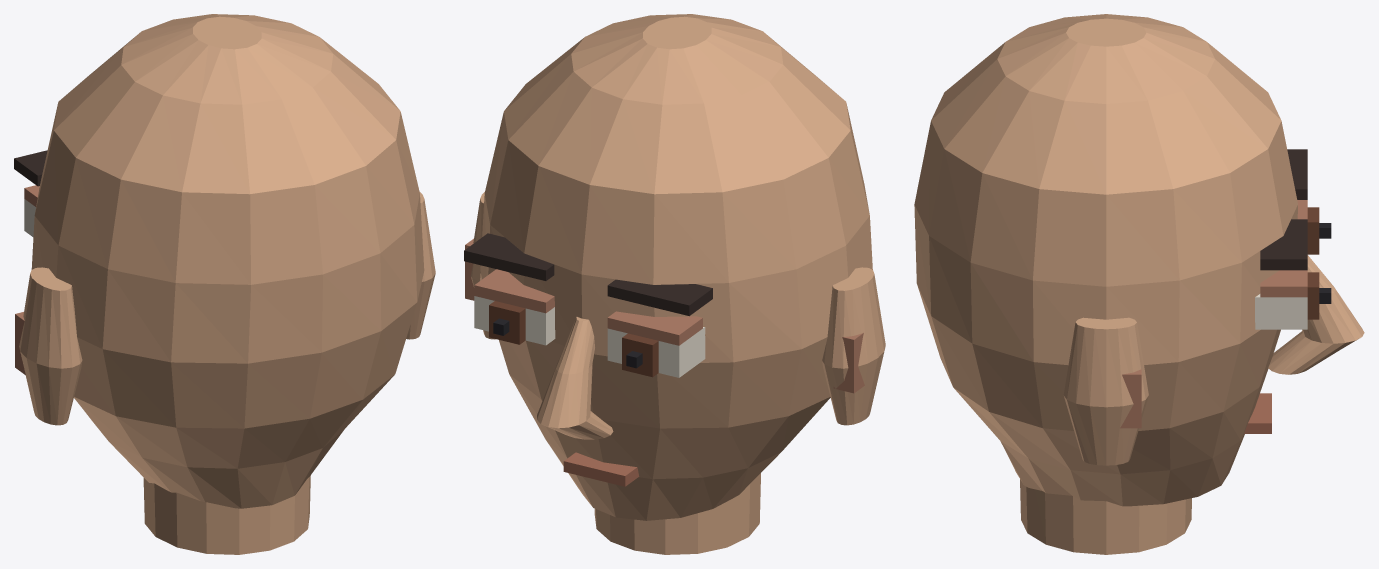
File: CHAR-068.glb
3 renders of one model, left to right at view 1: azimuth 30°, elevation 25°; view 2: azimuth 150°, elevation 25°; view 3: azimuth 270°, elevation 25°, orthographic.
Parts seen in each view (by area): view 1: 精细儿童头部母版; view 2: 精细儿童头部母版; view 3: 精细儿童头部母版.
Boxes of the visible parts, box(x1,y1,x2,y2) form: 精细儿童头部母版: box(14, 14, 435, 554); 精细儿童头部母版: box(464, 14, 885, 554); 精细儿童头部母版: box(914, 14, 1364, 554).
Size of the model in its own units: 0.196 by 0.227 by 0.1901.
Materials: 7 (7 with a texture image).
